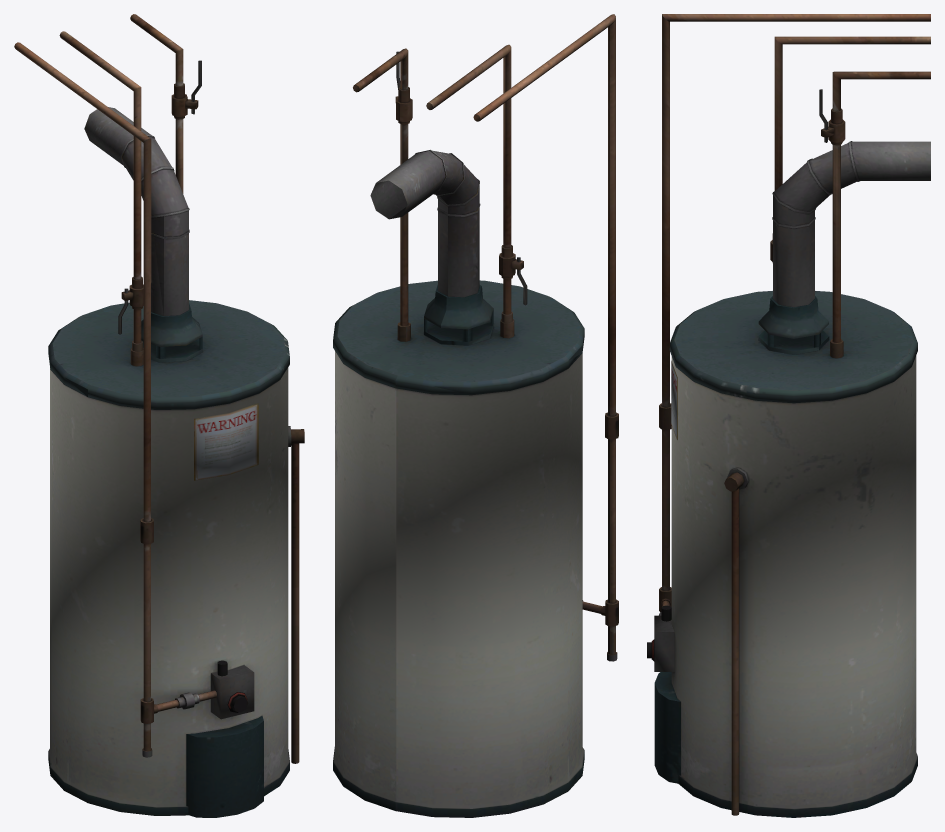
Rendered from hot_water_heater.obj.
3 views of the same model, side by side, from view 1: azimuth 30°, elevation 25°; view 2: azimuth 150°, elevation 25°; view 3: azimuth 270°, elevation 25° (orthographic). The views are drawn at different scales.
Parts seen in each view (by area): view 1: Model001_4_hot water heater_1_0_0; view 2: Model001_4_hot water heater_1_0_0; view 3: Model001_4_hot water heater_1_0_0.
Boxes of the visible parts, x1,y1,x2,y2 form: Model001_4_hot water heater_1_0_0: [14, 14, 304, 817]; Model001_4_hot water heater_1_0_0: [333, 14, 618, 817]; Model001_4_hot water heater_1_0_0: [647, 14, 930, 817].
Size of the model in its own units: 0.8498 by 2.65 by 0.9613.
